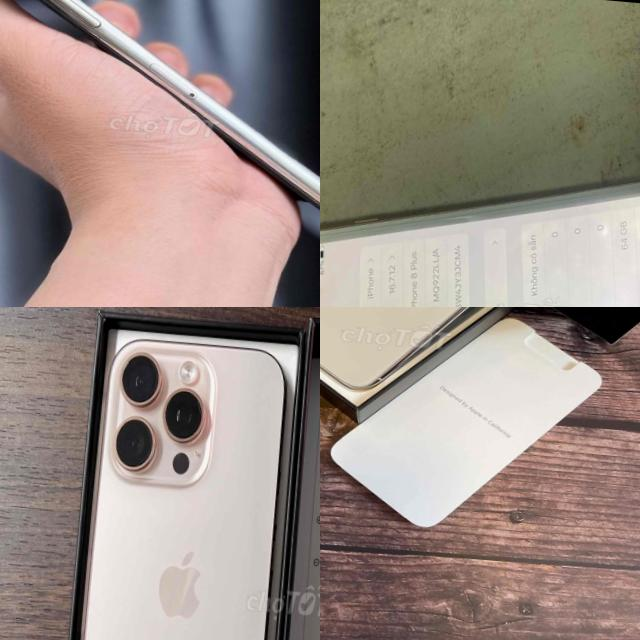gen_11: (0, 0, 320, 284), (320, 307, 587, 406)
gen_16: (80, 333, 285, 640)
gen_7_8: (320, 126, 640, 307)
